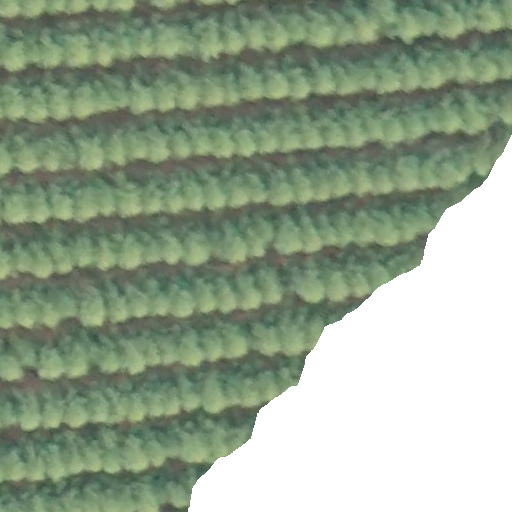eucalipto: (289, 255, 329, 306), (73, 280, 110, 331)
